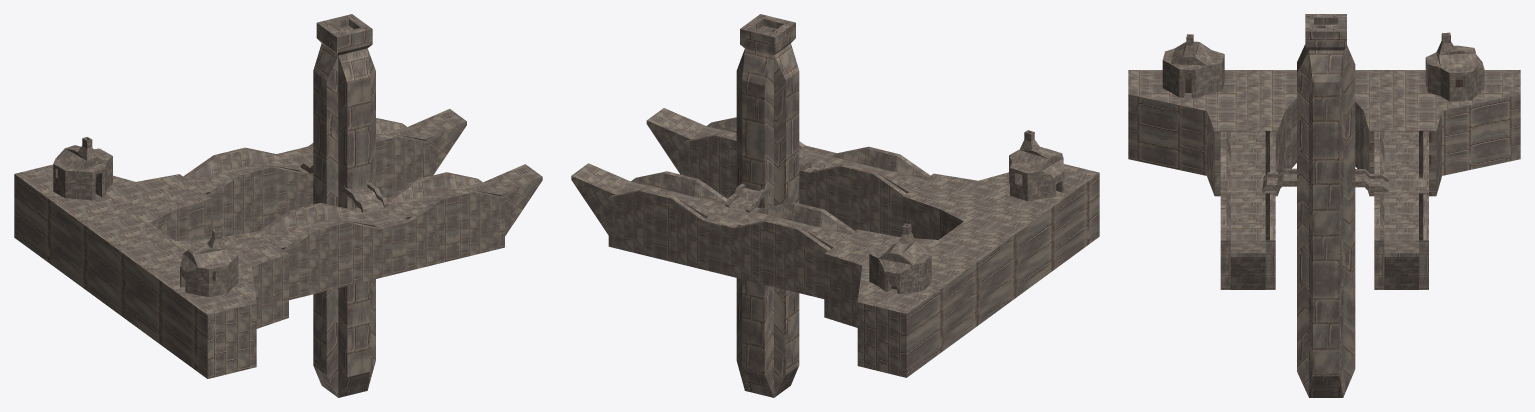
The model's file is DwarfPort.obj.
3 renders of one model, left to right at view 1: azimuth 30°, elevation 25°; view 2: azimuth 150°, elevation 25°; view 3: azimuth 270°, elevation 25°, orthographic.
Parts seen in each view (by area): view 1: Cube, Cube.001_Cube.002, Plane.007, Cube.002_Cube.016, Plane.000_Plane.004, Plane.020, Cube.003_Cube.017; view 2: Cube, Cube.002_Cube.016, Plane.007, Cube.001_Cube.002, Plane.020, Plane.000_Plane.004, Cube.003_Cube.017; view 3: Cube, Plane.007, Cube.001_Cube.002, Cube.002_Cube.016, Plane.000_Plane.004, Plane.020, Cube.003_Cube.017.
Part boxes in pixels (x1,y1,x2,y2): Cube: (14,164,288,378); Cube.001_Cube.002: (258,164,542,300); Plane.007: (313,14,375,397); Cube.002_Cube.016: (183,109,466,236); Plane.000_Plane.004: (180,228,238,297); Plane.020: (53,137,112,200); Cube.003_Cube.017: (300,162,388,212); Cube: (824,164,1099,377); Cube.002_Cube.016: (571,163,855,298); Plane.007: (736,14,799,397); Cube.001_Cube.002: (646,108,930,236); Plane.020: (869,223,931,293); Plane.000_Plane.004: (1009,130,1064,201); Cube.003_Cube.017: (725,160,811,212); Cube: (1128,70,1520,196); Plane.007: (1297,14,1355,397); Cube.001_Cube.002: (1220,131,1275,289); Cube.002_Cube.016: (1374,131,1428,289); Plane.000_Plane.004: (1162,34,1224,98); Plane.020: (1425,32,1484,101); Cube.003_Cube.017: (1262,168,1389,192).
Size of the model in its own units: 0.826 by 0.7424 by 0.7171.
4 materials, 4 textured.
